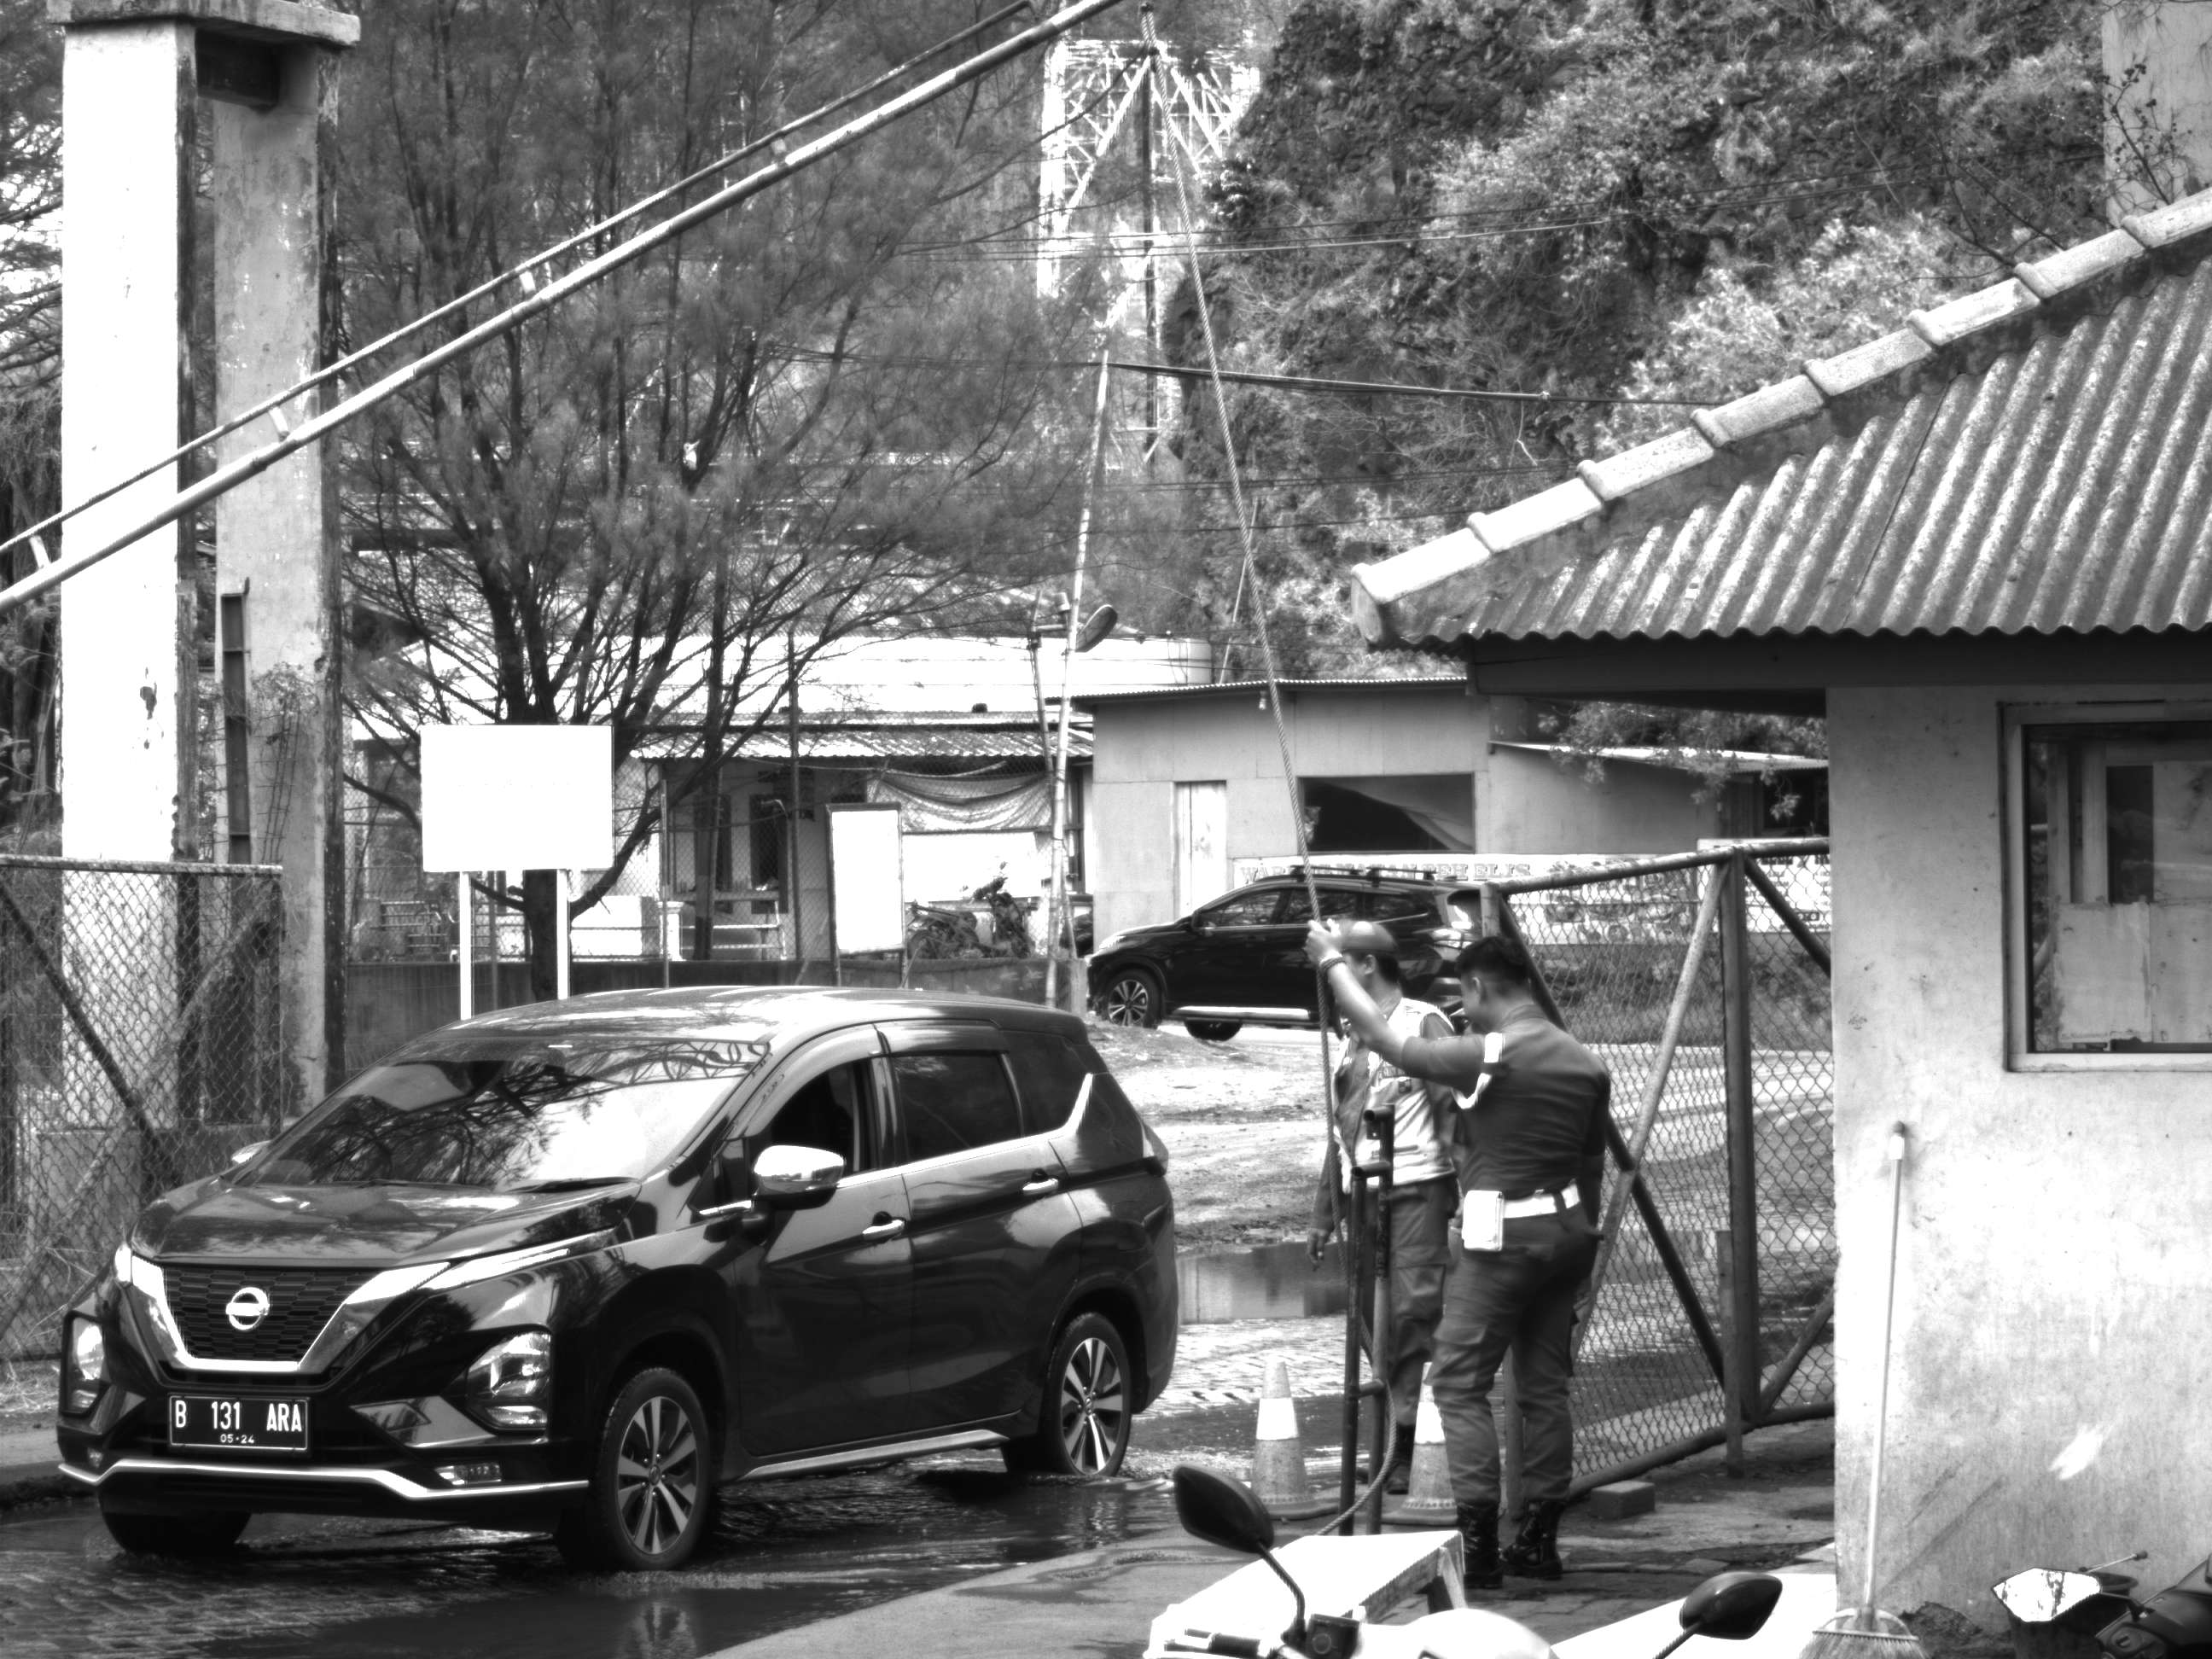day_small_front: (44, 999, 751, 1567)
plate: (162, 1392, 311, 1456)
